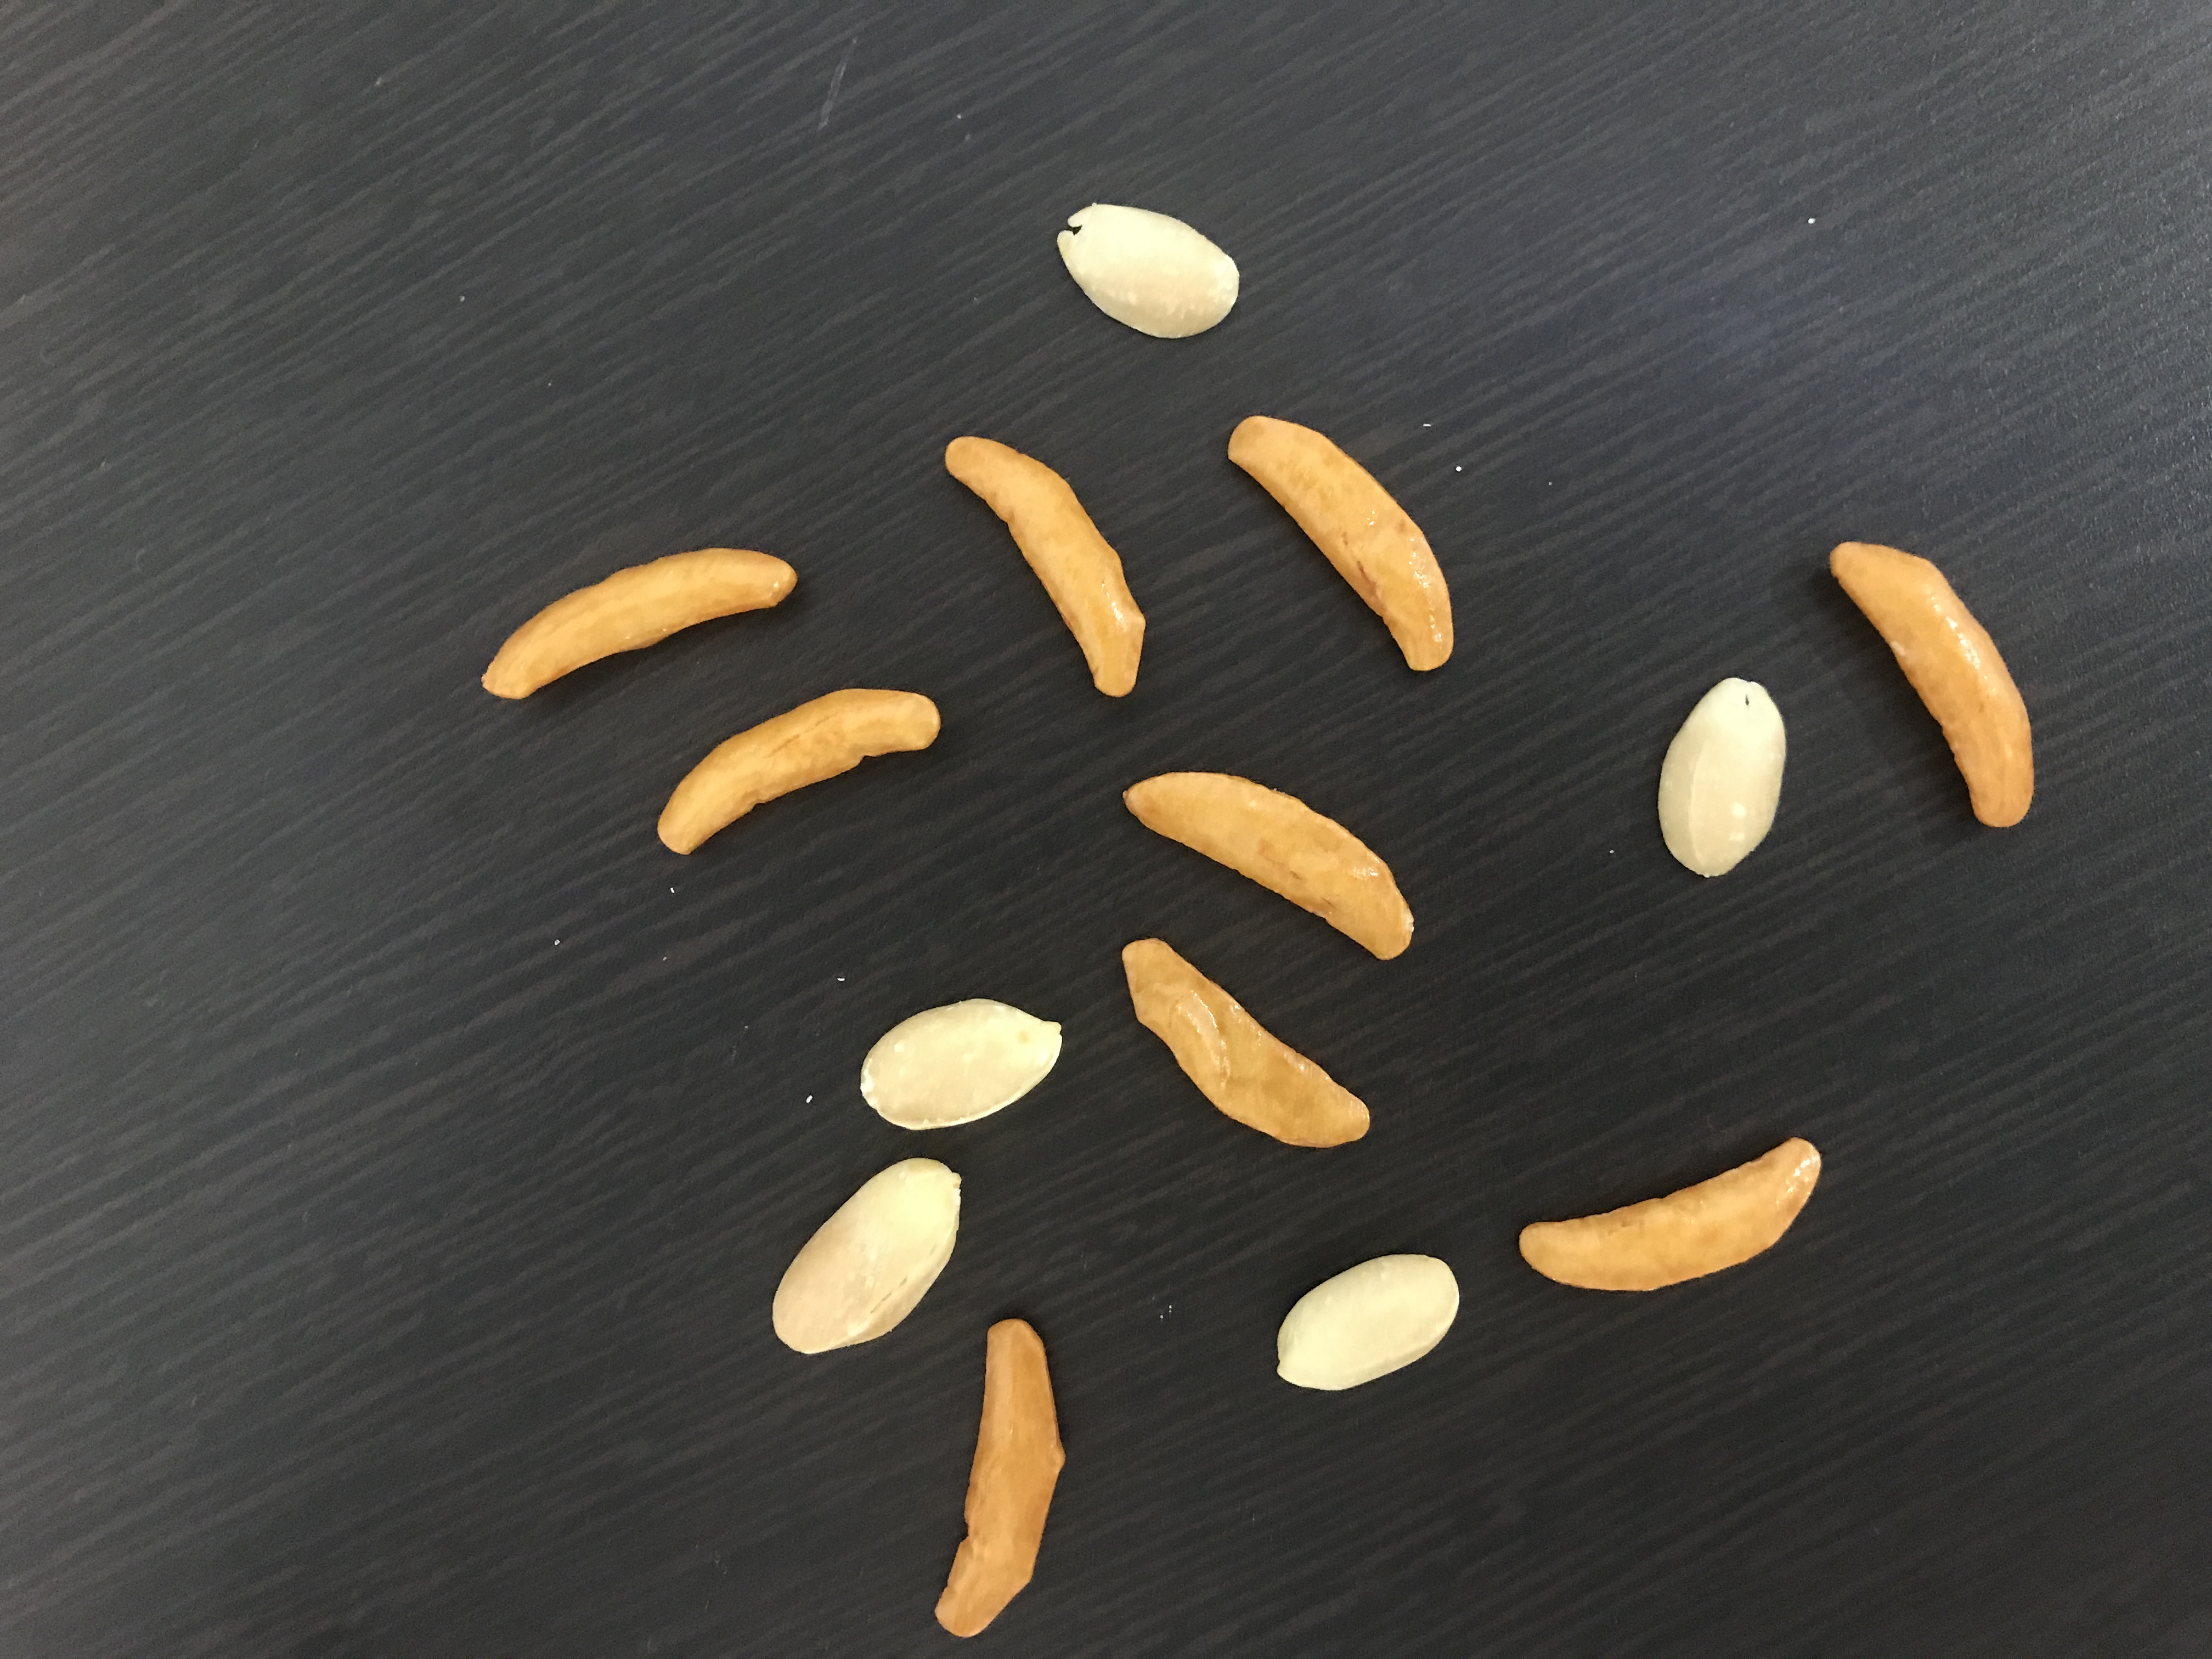peanut: (761, 1150, 967, 1358), (1050, 193, 1251, 345), (1651, 671, 1794, 884), (855, 992, 1068, 1134), (1273, 1246, 1467, 1396)
